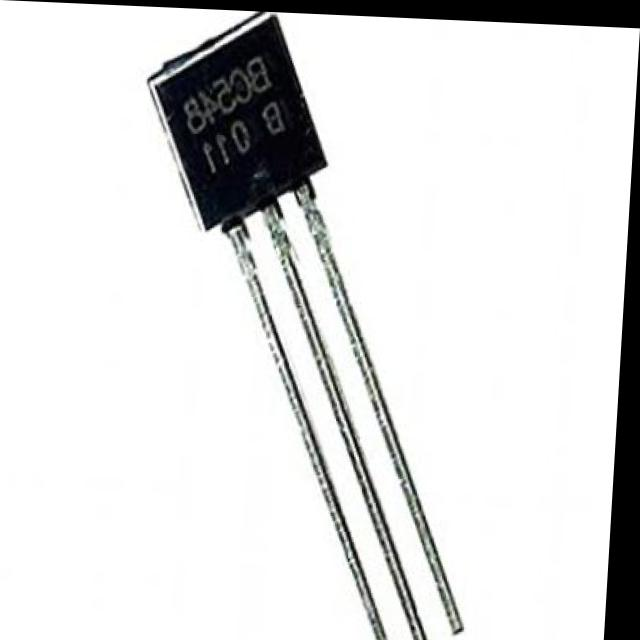Transistor: (147, 9, 329, 233)
